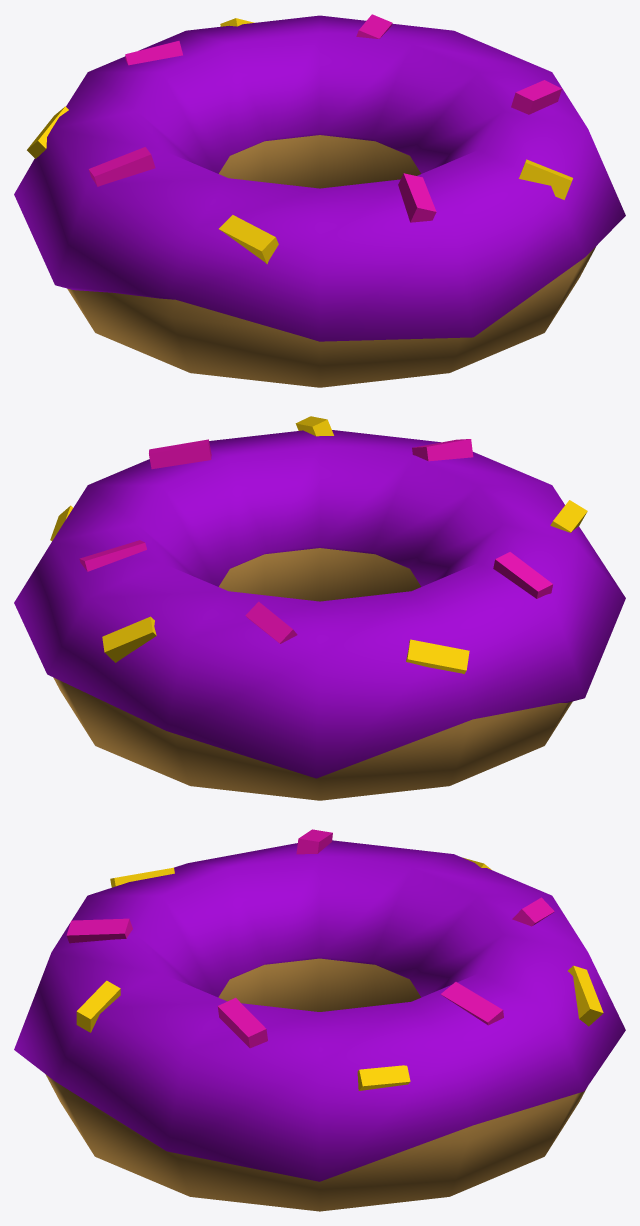
The model's file is rl_donut_2.fbx.
3 views of the same model, one above another, from view 1: azimuth 30°, elevation 25°; view 2: azimuth 150°, elevation 25°; view 3: azimuth 270°, elevation 25° (orthographic).
Parts seen in each view (by area): view 1: sauce, donut, Cube.002, Cube.001, Cube, Cube.006, Cube.007, Cube.008, Cube.004, Cube.009; view 2: sauce, donut, Cube.009, Cube.003, Cube.002, Cube.006, Cube, Cube.008, Cube.004, Cube.001, Cube.007; view 3: sauce, donut, Cube.006, Cube, Cube.004, Cube.003, Cube.007, Cube.005, Cube.002, Cube.008.
Part boxes in pixels (x1,y1,x2,y2): sauce: [14, 15, 625, 341]; donut: [67, 135, 595, 387]; Cube.002: [88, 147, 155, 186]; Cube.001: [218, 215, 278, 264]; Cube: [398, 173, 436, 222]; Cube.006: [511, 80, 561, 114]; Cube.007: [519, 159, 572, 199]; Cube.008: [125, 41, 182, 65]; Cube.004: [356, 14, 392, 38]; Cube.009: [27, 106, 68, 158]; sauce: [14, 430, 625, 778]; donut: [53, 548, 572, 800]; Cube.009: [406, 639, 469, 674]; Cube.003: [102, 616, 156, 662]; Cube.002: [493, 552, 553, 598]; Cube.006: [149, 439, 211, 469]; Cube: [412, 439, 473, 461]; Cube.008: [245, 601, 297, 643]; Cube.004: [79, 540, 146, 571]; Cube.001: [550, 500, 587, 532]; Cube.007: [295, 416, 333, 436]; sauce: [14, 840, 625, 1181]; donut: [45, 958, 586, 1211]; Cube.006: [217, 997, 267, 1048]; Cube: [66, 918, 132, 943]; Cube.004: [440, 982, 503, 1025]; Cube.003: [568, 965, 603, 1026]; Cube.007: [76, 980, 120, 1032]; Cube.005: [357, 1065, 410, 1090]; Cube.002: [296, 829, 332, 854]; Cube.008: [512, 897, 554, 926].
Bounding box in the file's own units: 131 × 46.22 × 131.
